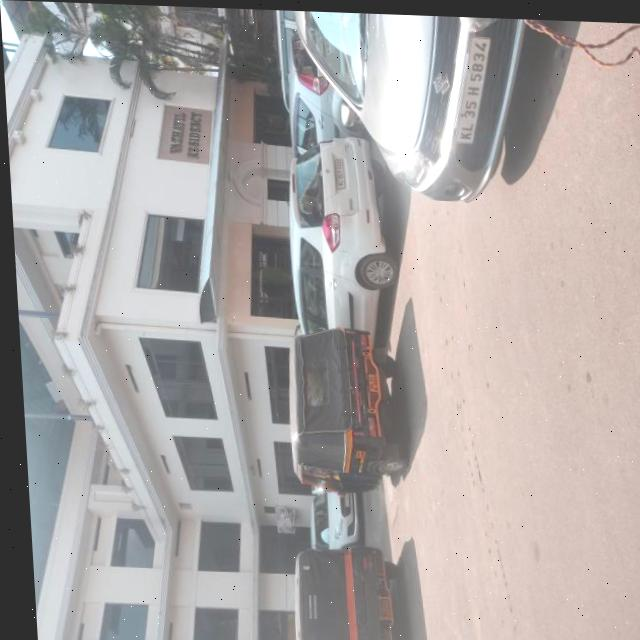plate: (445, 29, 496, 142), (326, 153, 349, 191), (369, 596, 385, 619), (361, 371, 377, 392)
